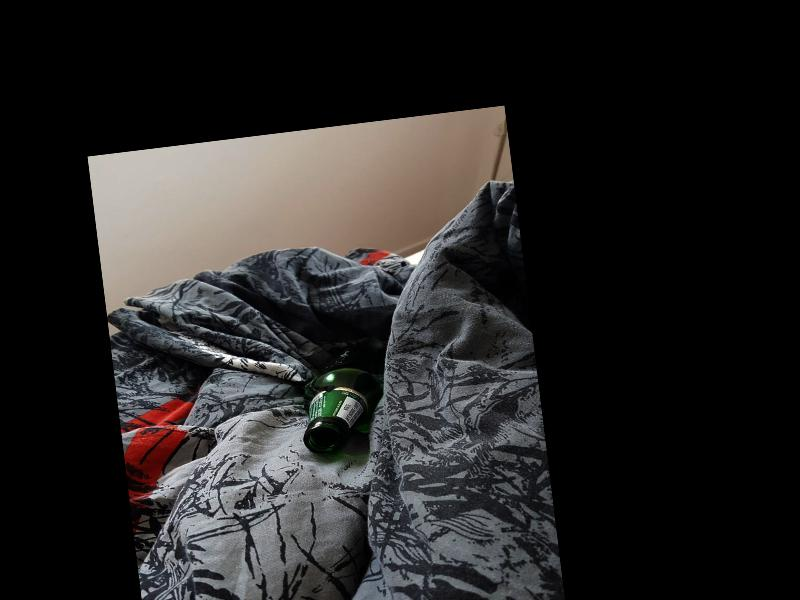Beer: (296, 344, 388, 455)
